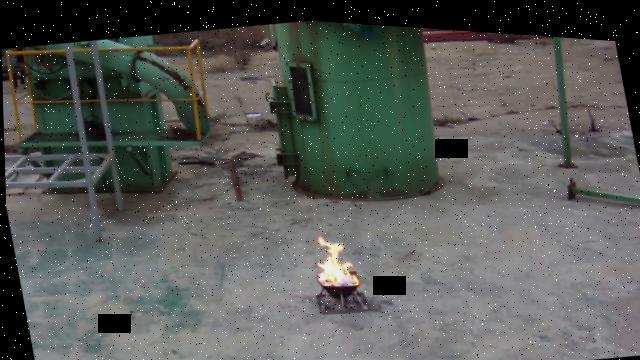fire: (310, 226, 357, 285)
